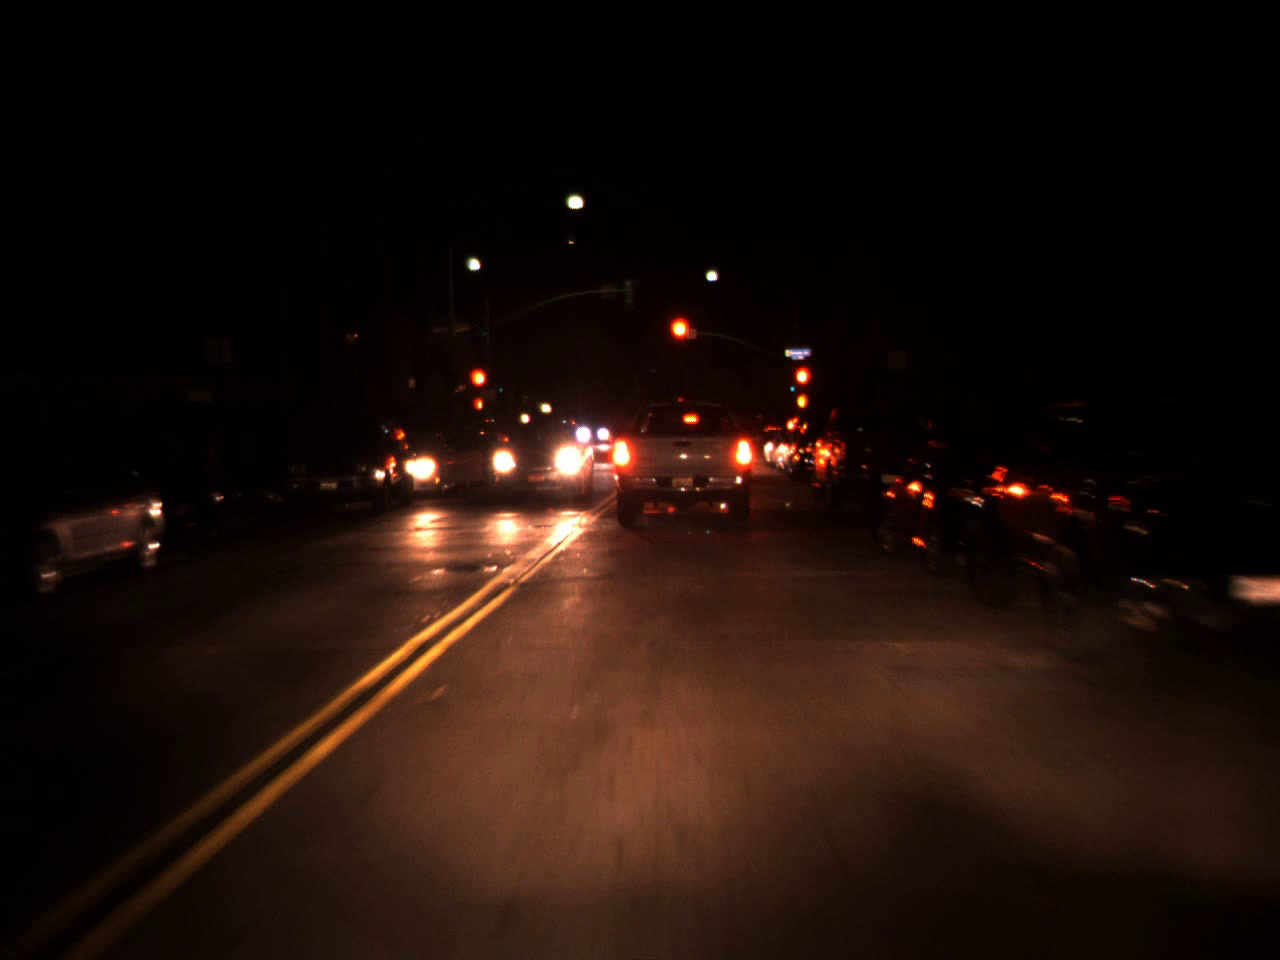stop: (666, 313, 693, 367), (792, 364, 813, 407), (468, 366, 489, 409)
